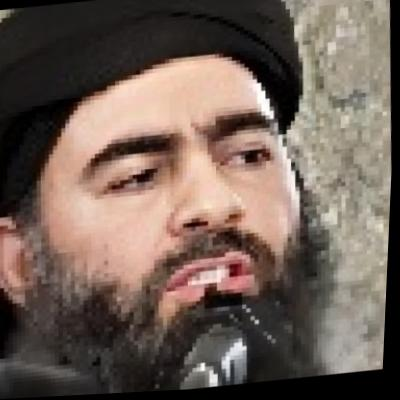angry: (39, 49, 309, 363)
